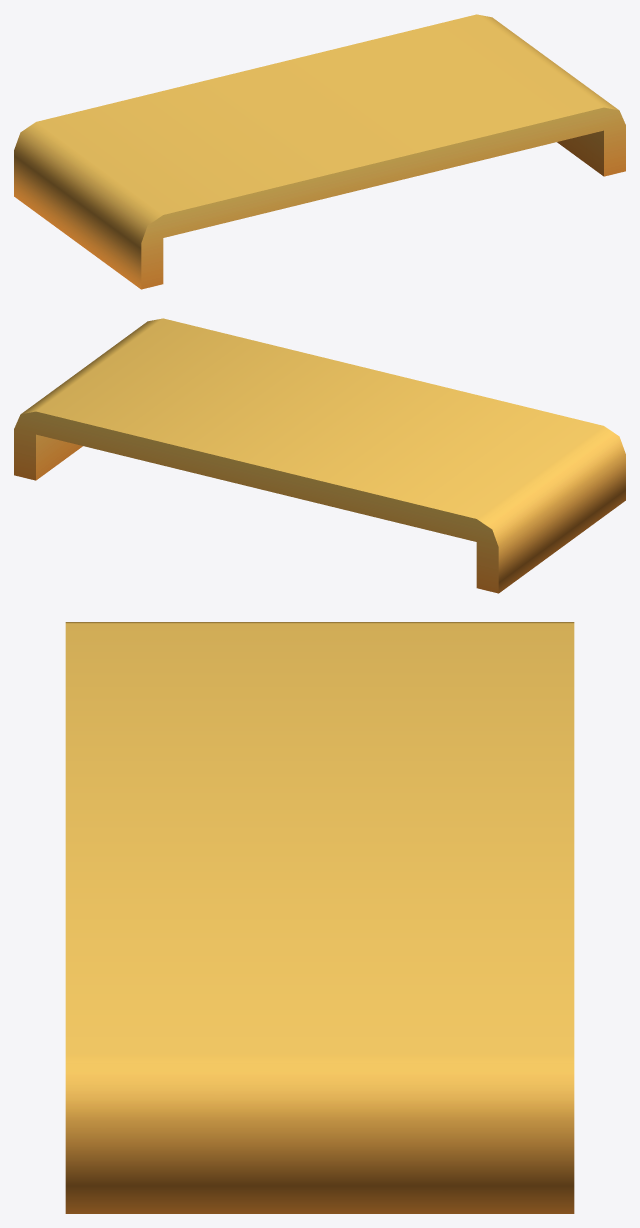
Rendered from kenney-space-station-bed-double-cover.glb.
3 views of the same model, one above another, from view 1: azimuth 30°, elevation 25°; view 2: azimuth 150°, elevation 25°; view 3: azimuth 270°, elevation 25° (orthographic). The views are drawn at different scales.
Parts seen in each view (by area): view 1: bed-double-cover; view 2: bed-double-cover; view 3: bed-double-cover.
Part boxes in pixels (left/top/right/bottom): bed-double-cover: left=14, top=14, right=625, bottom=289; bed-double-cover: left=14, top=318, right=625, bottom=593; bed-double-cover: left=65, top=622, right=574, bottom=1213.
Bounding box in the file's own units: 1.1 × 0.15 × 0.5.
1 material, 1 textured.
